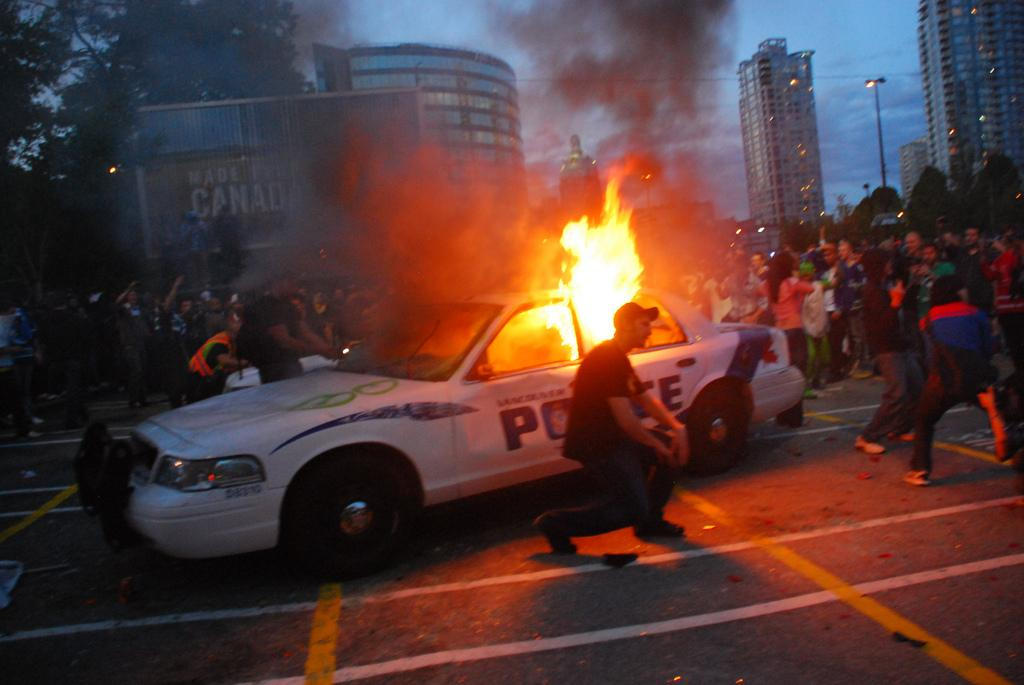fire: (547, 222, 640, 333)
